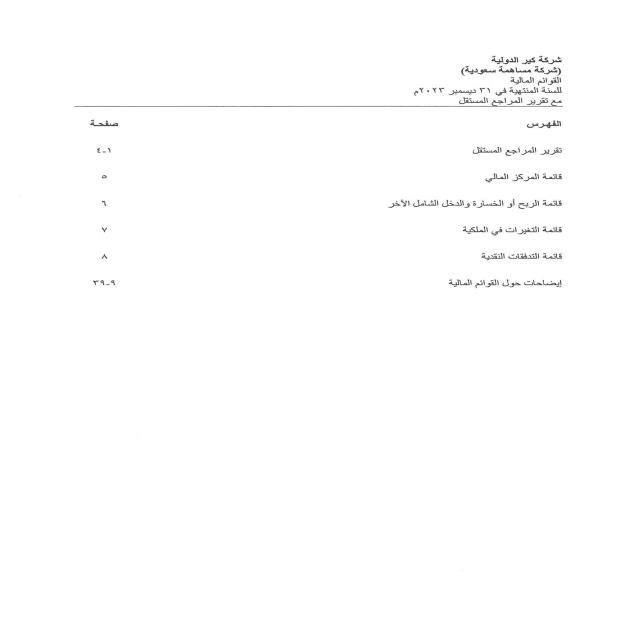other: (62, 120, 566, 318)
